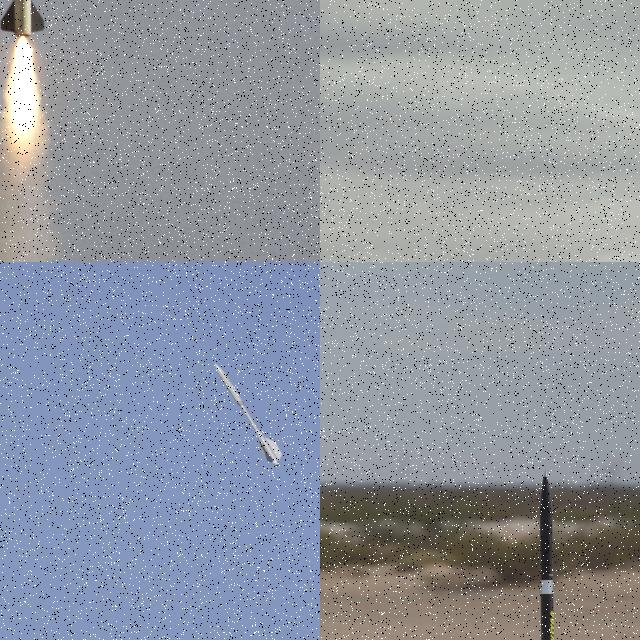Rocket: (214, 363, 283, 467), (527, 468, 566, 640)
